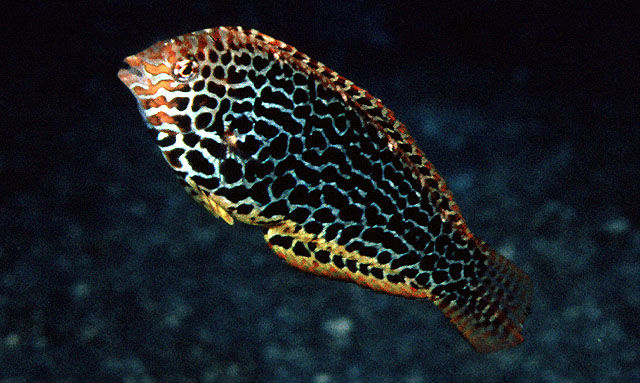fish: (116, 25, 537, 354)
